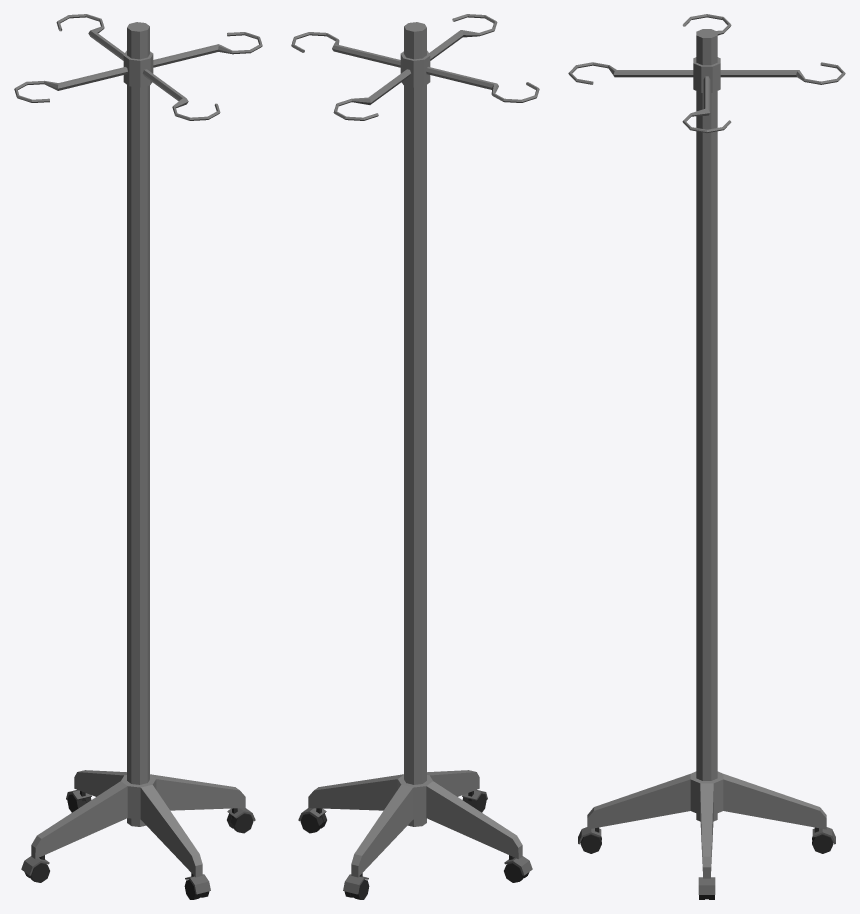
Rendered from SM_Props_Interior_Generic_Hospital_IVStand.fbx.
The picture shows the model from 3 angles, left to right: view 1: azimuth 30°, elevation 25°; view 2: azimuth 150°, elevation 25°; view 3: azimuth 270°, elevation 25°; orthographic projection.
Visible parts, largest first — view 1: SM_Props_Interior_Generic_Hospital_IVStand; view 2: SM_Props_Interior_Generic_Hospital_IVStand; view 3: SM_Props_Interior_Generic_Hospital_IVStand.
Part boxes in pixels (x1=…): SM_Props_Interior_Generic_Hospital_IVStand: x1=14, y1=14, x2=262, y2=899; SM_Props_Interior_Generic_Hospital_IVStand: x1=291, y1=14, x2=539, y2=899; SM_Props_Interior_Generic_Hospital_IVStand: x1=568, y1=14, x2=845, y2=899.
Size of the model in its own units: 53.46 by 174 by 53.46.
